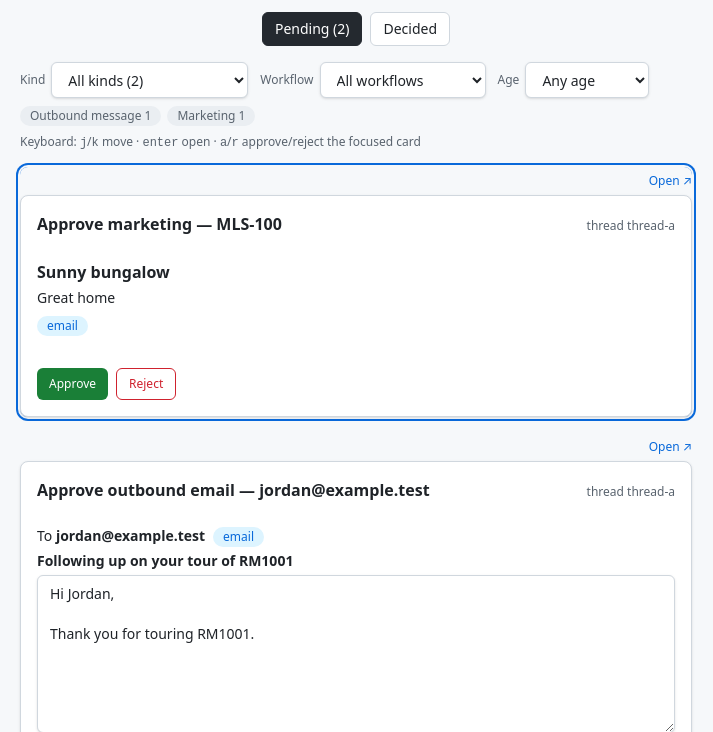
Test: Draft persistence across unmount (BOP-028 review-gate r2) › keeps the edited draft across a filter change that hides then reshows it
Replace the text in the text box named "Draft body" with "Draft in progress." at (356, 654), box [37,575,675,731]
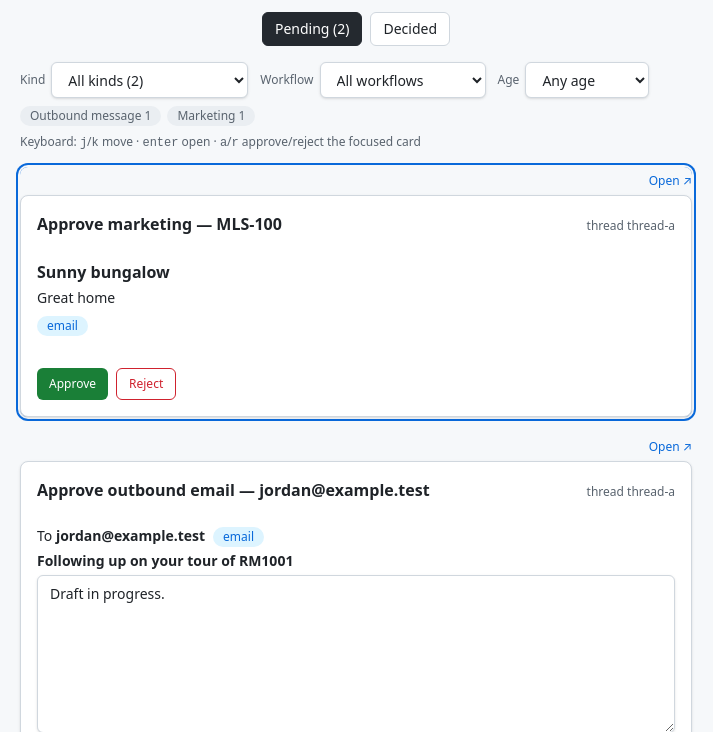
// Filter to marketing only — the outbound card unmounts.
Select "Marketing (1)" in the dropdown labelled "Kind" at (150, 80), box [51,62,248,98]
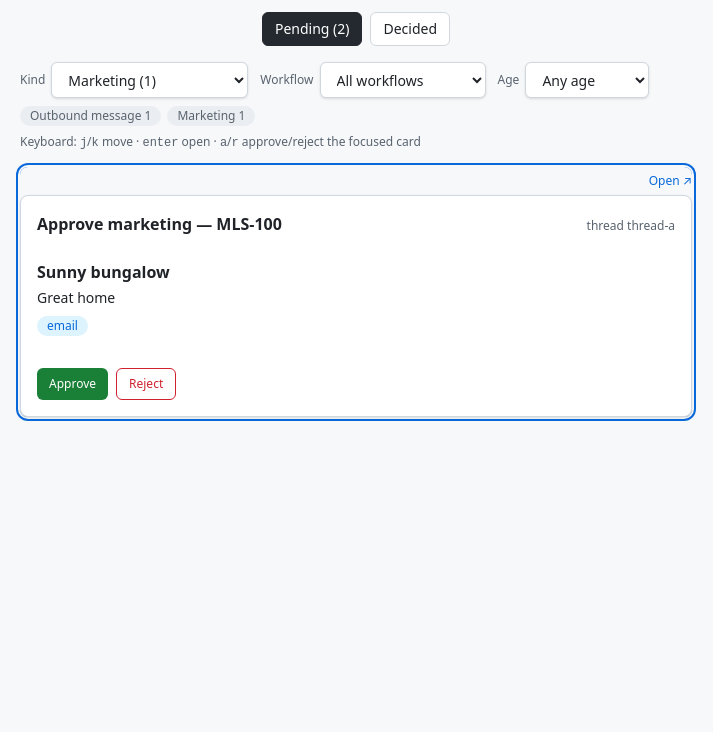
Check: the text box labelled "Draft body" is gone
// Back to all kinds — the outbound card returns with the edit intact.
Select "All kinds (2)" in the dropdown labelled "Kind" at (150, 80), box [51,62,248,98]
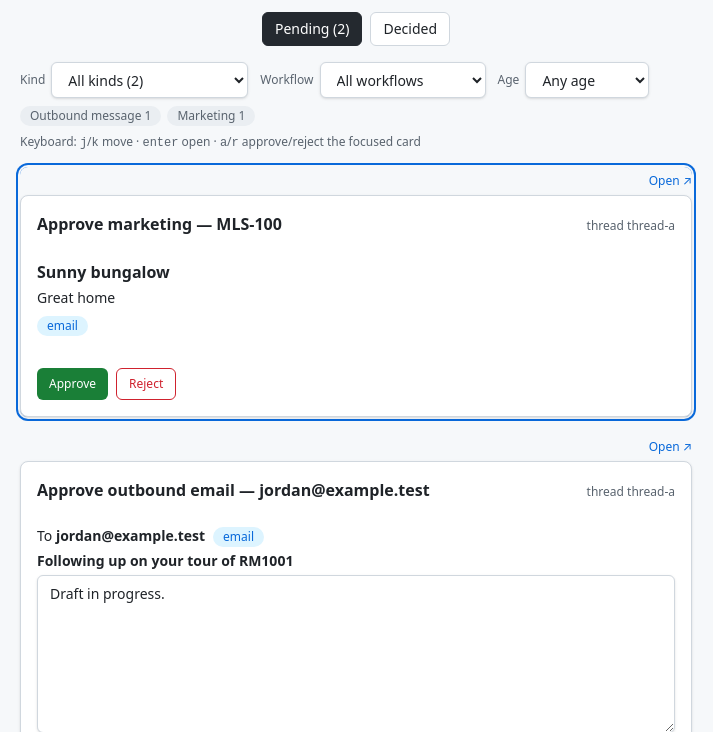
Check: the text box named "Draft body" holds "Draft in progress.", box [37,575,675,731]
